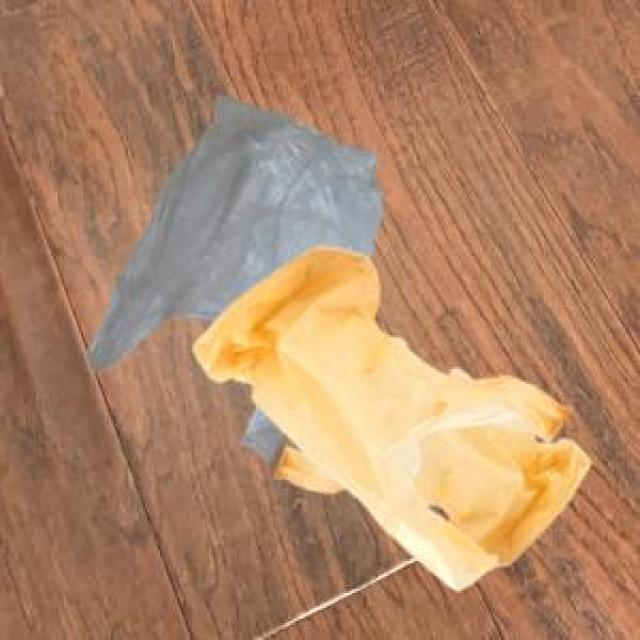plastic: (68, 63, 606, 611)
